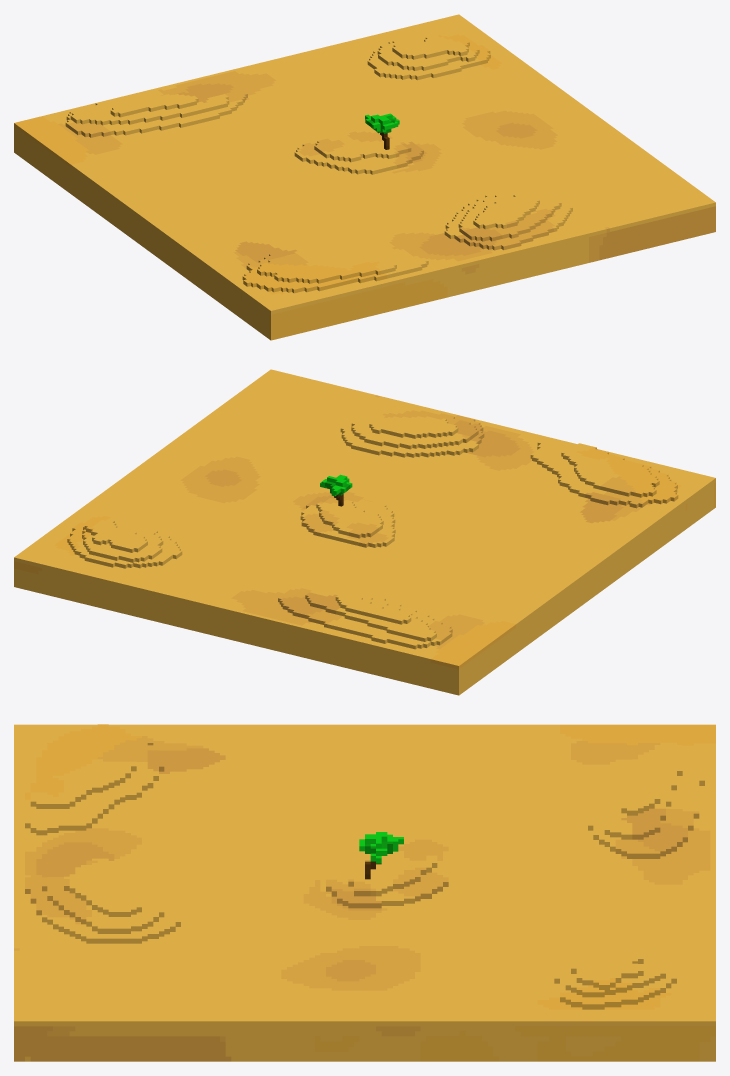
File: Egypt-1.obj
3 views of the same model, one above another, from view 1: azimuth 30°, elevation 25°; view 2: azimuth 150°, elevation 25°; view 3: azimuth 270°, elevation 25° (orthographic). The views are drawn at different scales.
Bounding box in the file's own units: 12.6 × 1.8 × 12.6.
Materials: 1 (1 with a texture image).
